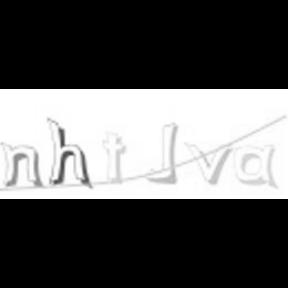J: (142, 120, 184, 188)
a: (233, 142, 279, 190)
h: (43, 114, 93, 190)
n: (1, 143, 44, 189)
t: (100, 131, 128, 186)
v: (185, 140, 231, 188)
